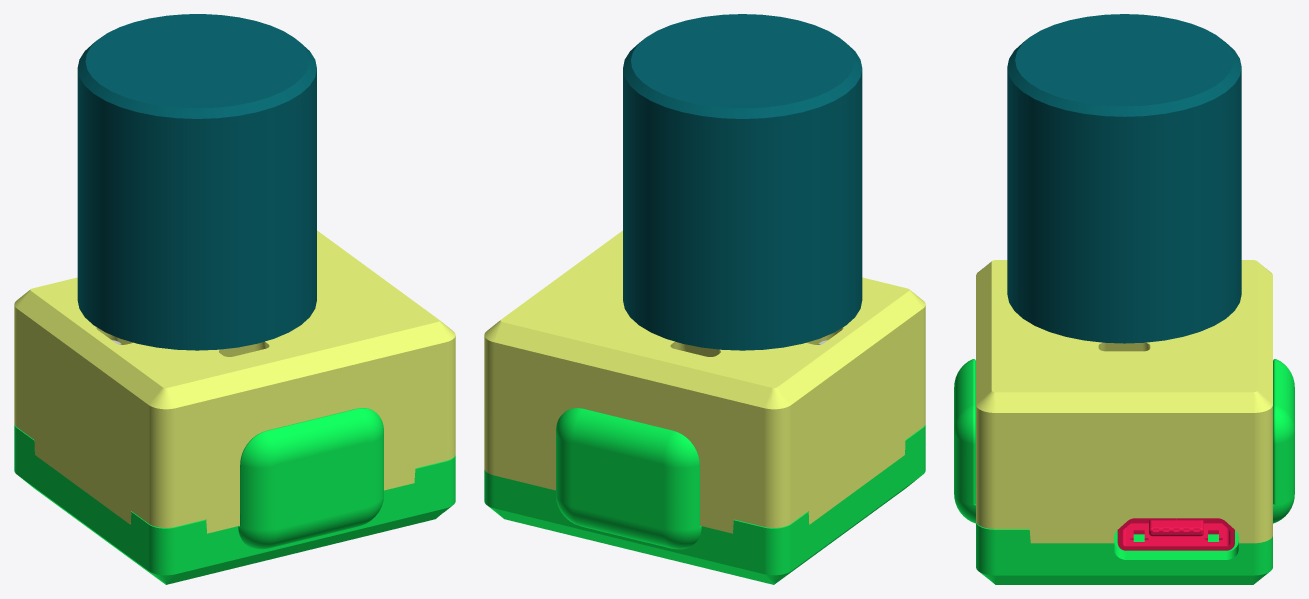
Rendered from tluvk.glb.
3 renders of one model, left to right at view 1: azimuth 30°, elevation 25°; view 2: azimuth 150°, elevation 25°; view 3: azimuth 270°, elevation 25°, orthographic. The views are drawn at different scales.
Visible parts, largest first — view 1: NAUO5, NAUO4, NAUO3; view 2: NAUO5, NAUO4, NAUO3; view 3: NAUO5, NAUO4, NAUO3, NAUO2.
Part boxes in pixels (x1,y1,x2,y2): NAUO5: (77,14,316,350); NAUO4: (14,230,455,533); NAUO3: (14,408,455,584); NAUO5: (623,14,862,350); NAUO4: (484,230,925,533); NAUO3: (484,408,925,584); NAUO5: (1007,14,1241,343); NAUO4: (976,260,1272,543); NAUO3: (954,359,1294,584); NAUO2: (1117,518,1234,550).
Size of the model in its own units: 0.022 by 0.0312 by 0.0218.
